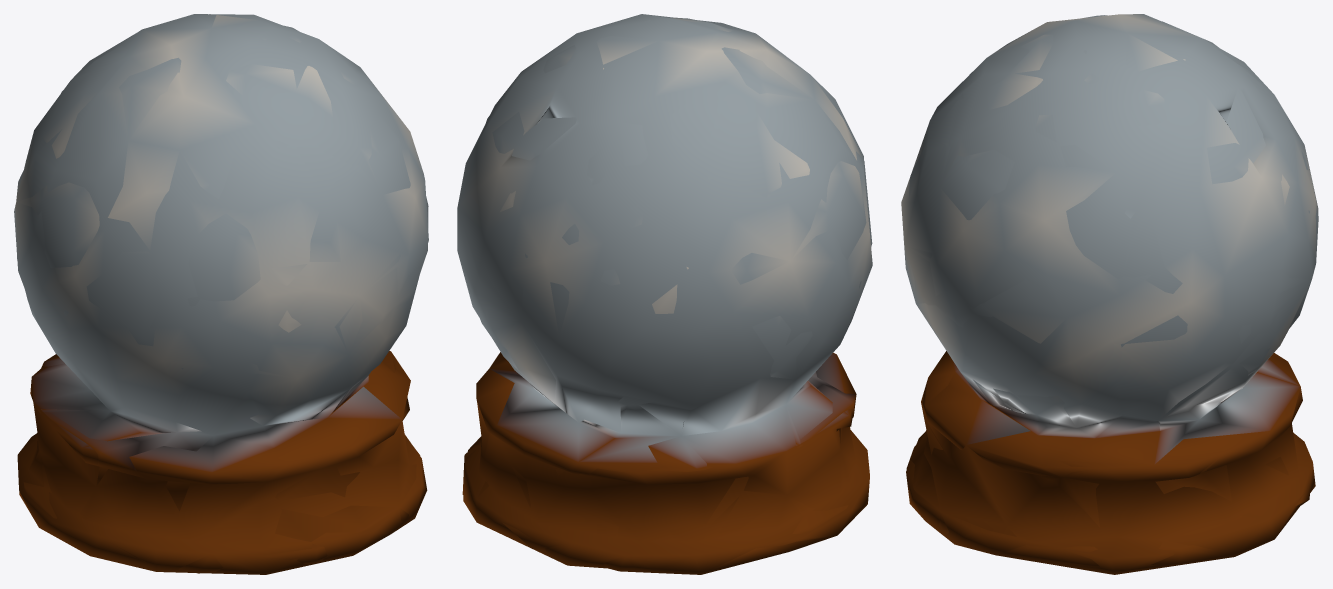
Rendered from gen3d-snow-globe-lod1.glb.
3 renders of one model, left to right at view 1: azimuth 30°, elevation 25°; view 2: azimuth 150°, elevation 25°; view 3: azimuth 270°, elevation 25°, orthographic.
Visible parts, largest first — view 1: part_0; view 2: part_0; view 3: part_0.
Part boxes in pixels (x1=…): part_0: x1=14, y1=14, x2=428, y2=574; part_0: x1=457, y1=14, x2=872, y2=574; part_0: x1=901, y1=14, x2=1318, y2=574.
Size of the model in its own units: 0.8277 by 0.9932 by 0.8253.
